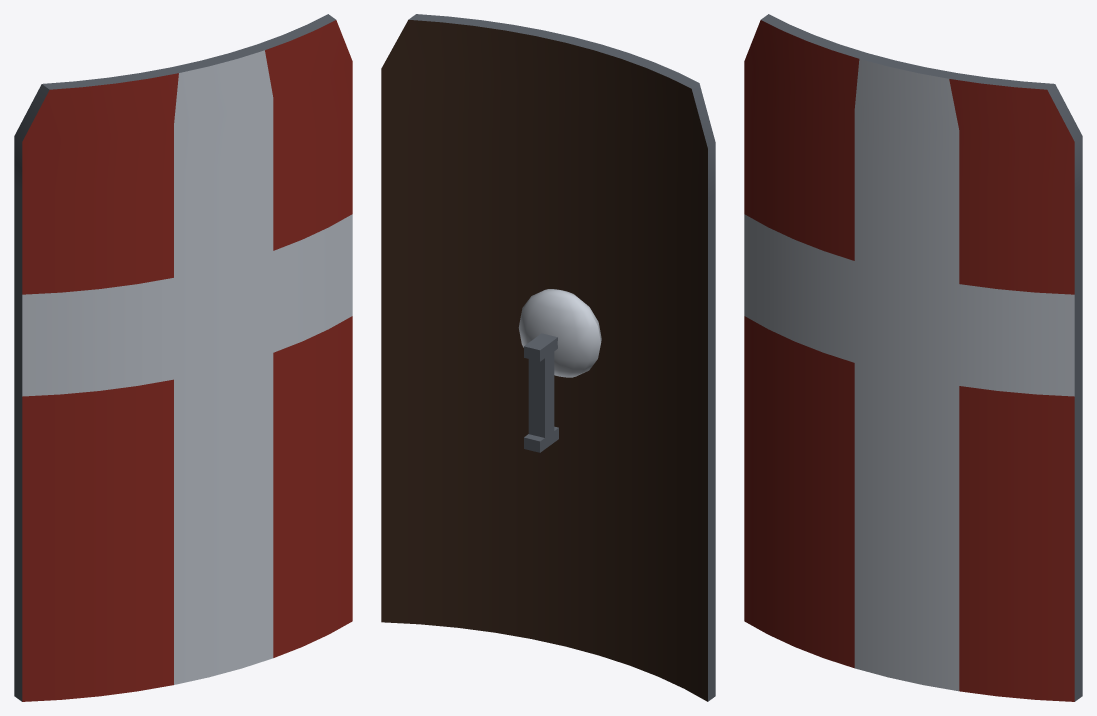
File: shield_tower.glb
3 renders of one model, left to right at view 1: azimuth 30°, elevation 25°; view 2: azimuth 150°, elevation 25°; view 3: azimuth 330°, elevation 25°, orthographic.
Visible parts, largest first — view 1: shield_tower; view 2: shield_tower; view 3: shield_tower.
Boxes of the visible parts, left/top/right/bottom form: shield_tower: left=14, top=14, right=352, bottom=701; shield_tower: left=381, top=14, right=715, bottom=701; shield_tower: left=744, top=14, right=1082, bottom=701.
Bounding box in the file's own units: 0.5999 × 1.06 × 0.1325.
